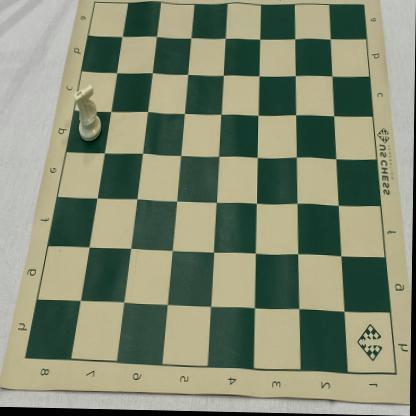white-knight: (74, 86, 102, 145)
